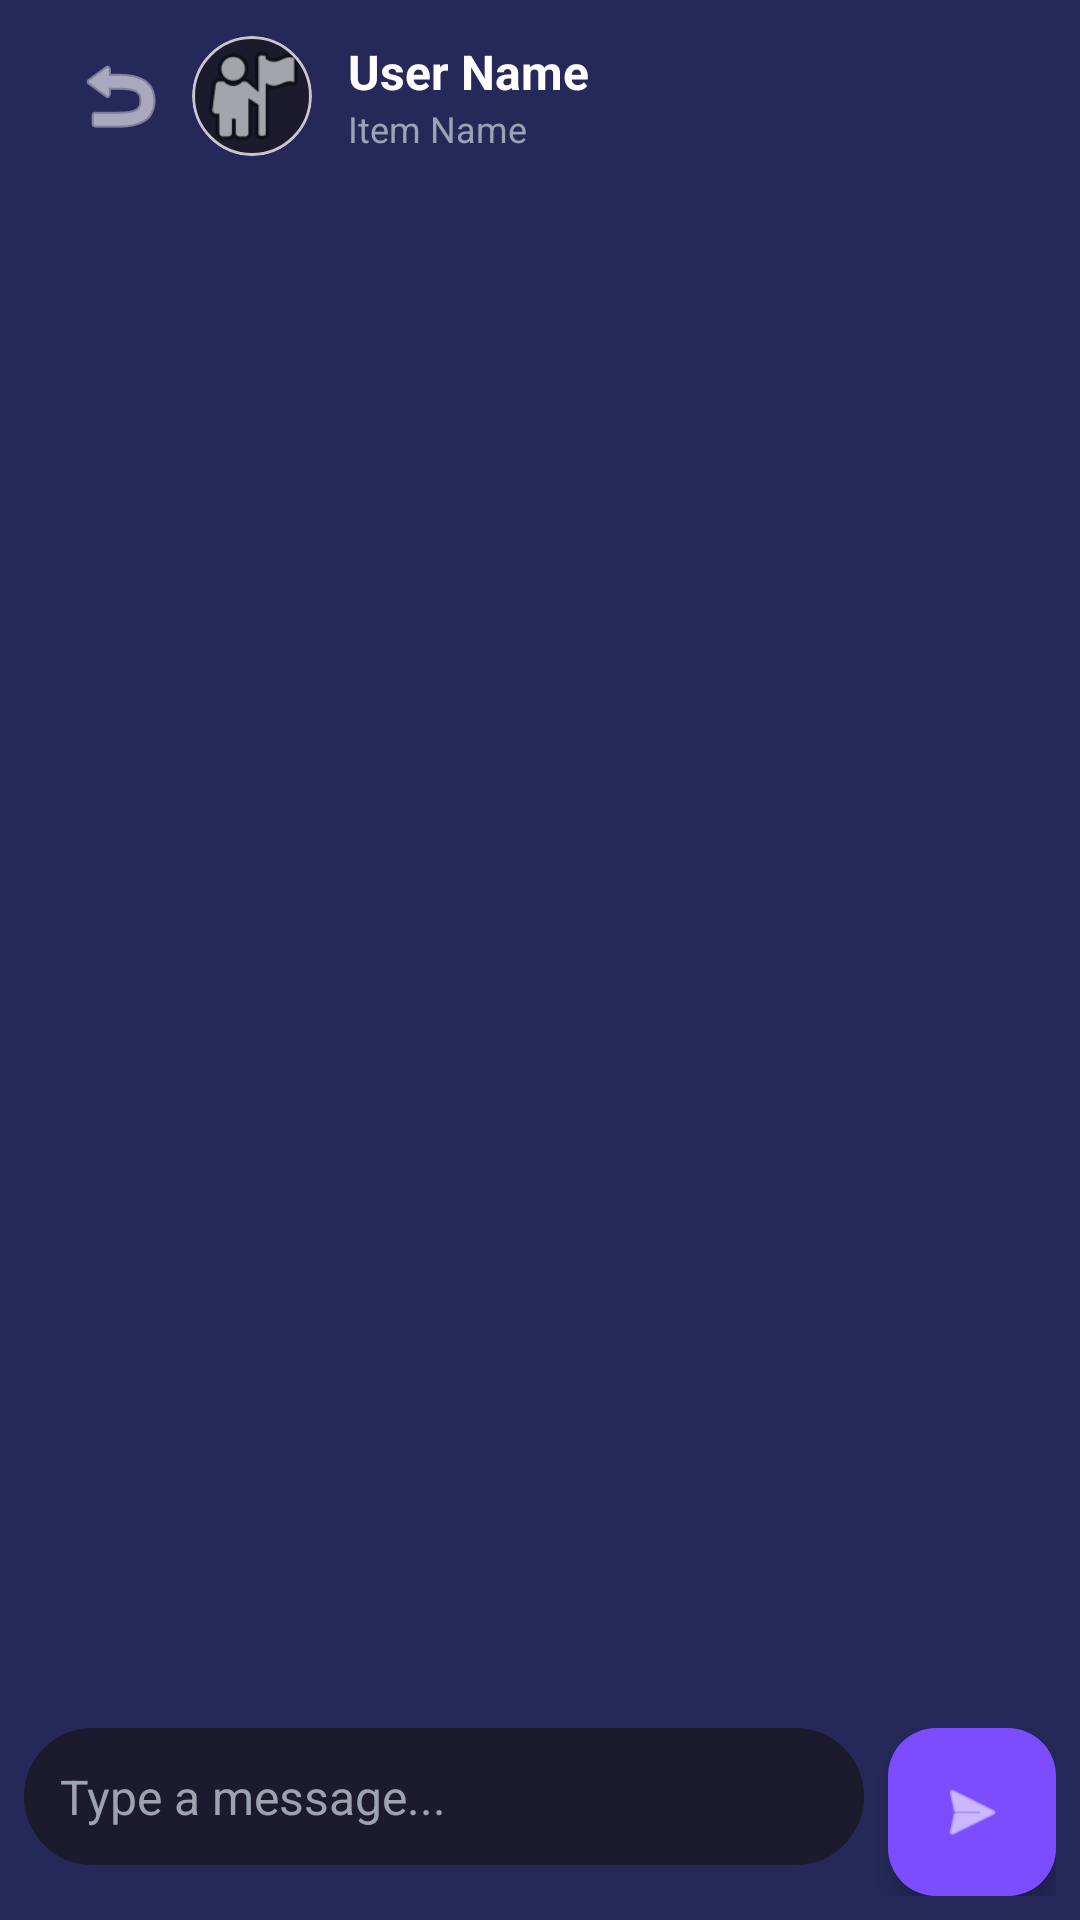

Screen size 1080px x 1920px. Icon name, then its box in pixels as (x1, y1, x2, y2):
myplaces: (192, 36, 312, 156)
revert: (87, 65, 156, 128)
send: (888, 1728, 1056, 1896)
